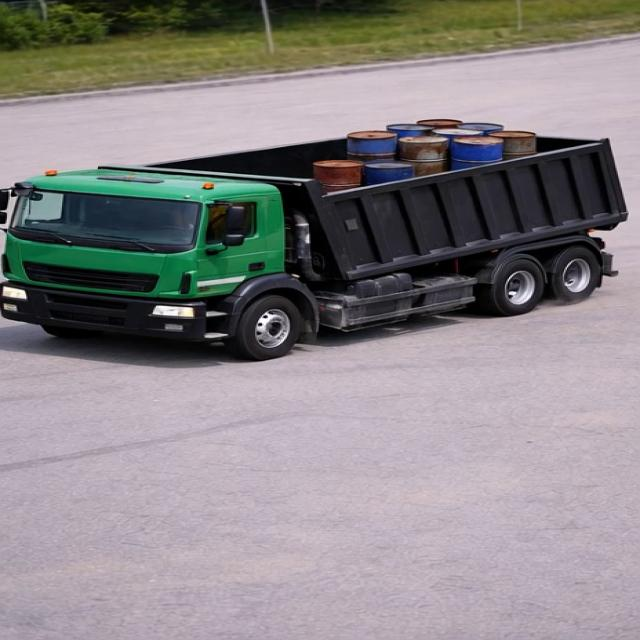Box: (130, 115, 614, 197)
Truck: (0, 86, 639, 357)
